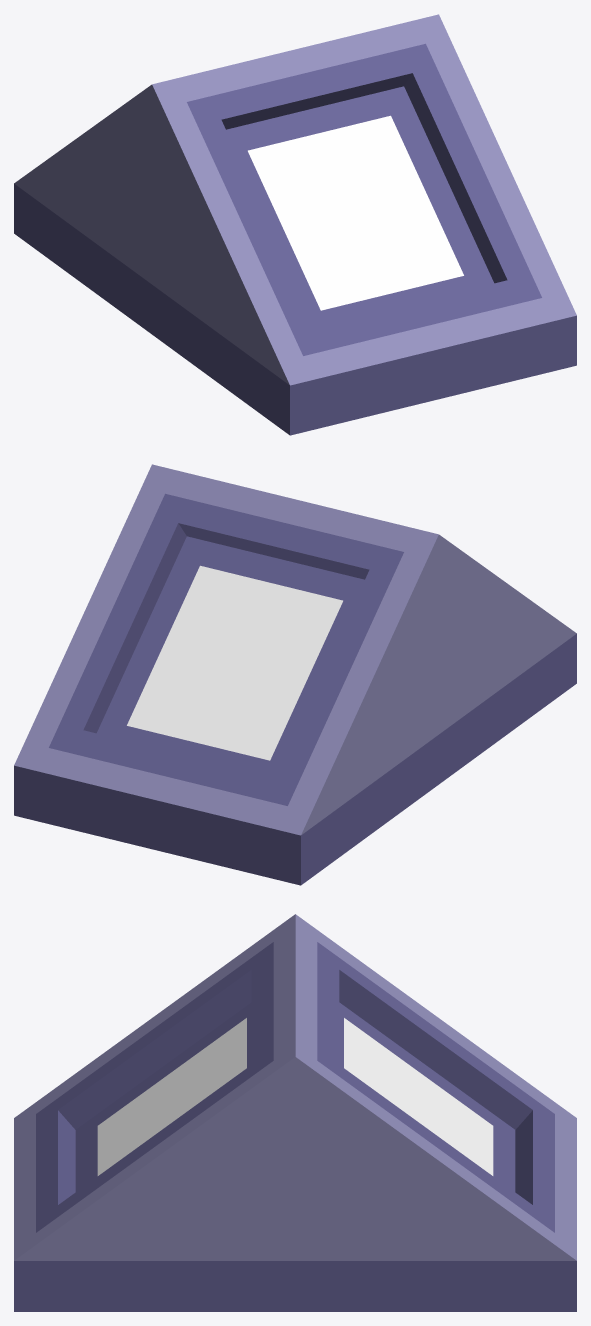
Rendered from roof_windowGlass.fbx.
The picture shows the model from 3 angles, top to bottom: view 1: azimuth 30°, elevation 25°; view 2: azimuth 150°, elevation 25°; view 3: azimuth 270°, elevation 25°; orthographic projection.
Visible parts, largest first — view 1: roof_windowGlass; view 2: roof_windowGlass; view 3: roof_windowGlass.
Part boxes in pixels (left/top/right/bottom): roof_windowGlass: left=14, top=14, right=576, bottom=435; roof_windowGlass: left=14, top=464, right=576, bottom=885; roof_windowGlass: left=14, top=914, right=576, bottom=1311.
Size of the model in its own units: 6 by 5 by 10.
